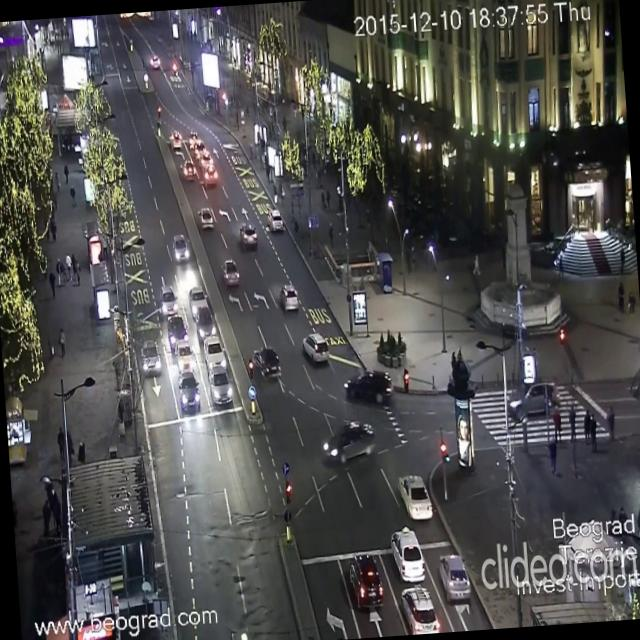car: (347, 551, 384, 610), (390, 524, 426, 584), (400, 582, 441, 634), (342, 368, 393, 406), (438, 552, 472, 604), (397, 473, 433, 522), (502, 384, 554, 415), (324, 426, 372, 459), (204, 334, 234, 374), (252, 343, 284, 379), (205, 365, 232, 406), (302, 330, 330, 365), (177, 373, 200, 410), (190, 288, 212, 326), (195, 315, 220, 345), (142, 344, 163, 378), (174, 233, 192, 268), (177, 340, 195, 374), (168, 316, 188, 346), (278, 282, 298, 311), (220, 258, 240, 286), (161, 284, 177, 318), (238, 222, 258, 248), (266, 207, 284, 233), (205, 163, 221, 192), (182, 157, 195, 184), (200, 154, 215, 172), (191, 139, 206, 157), (198, 204, 210, 226), (186, 132, 200, 148), (148, 52, 160, 70), (170, 130, 180, 146)
